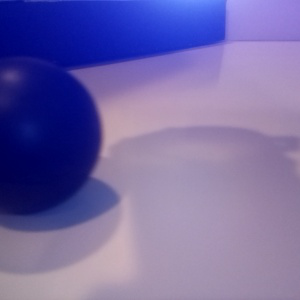dead_ball: (1, 59, 101, 214)
